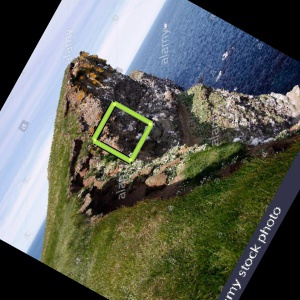square: (89, 99, 156, 165)
